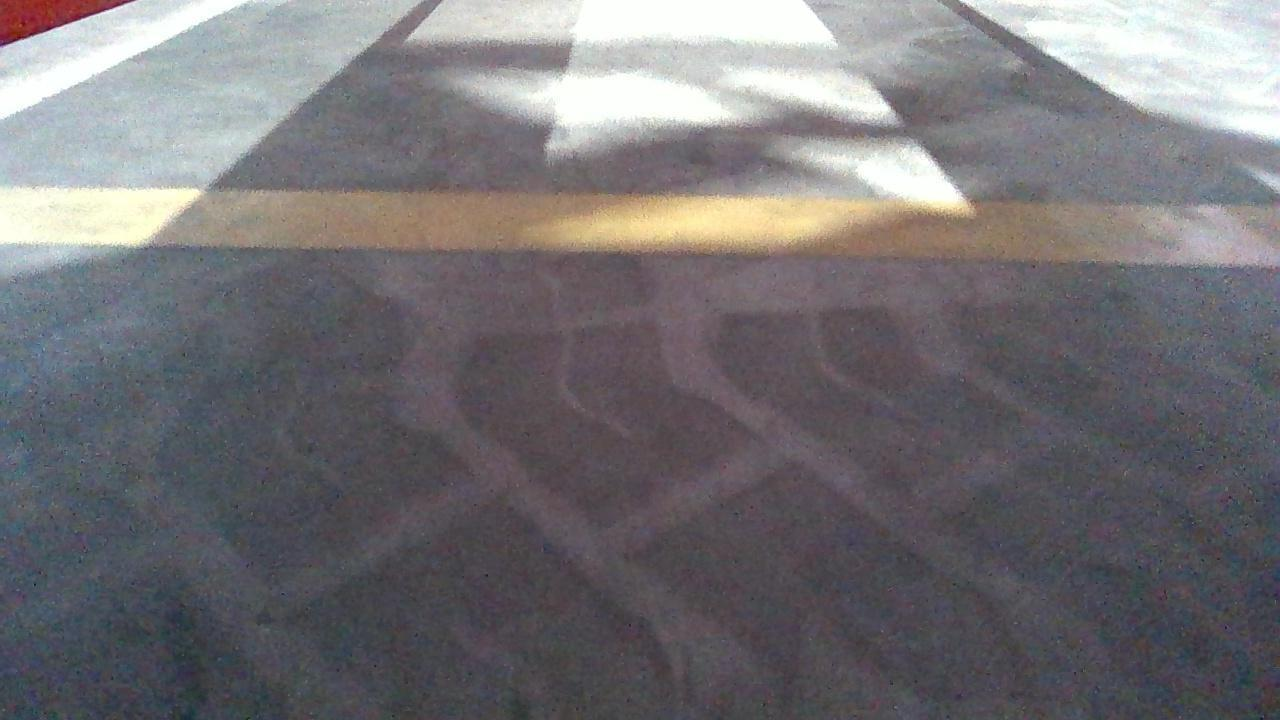yellow_line: (1, 190, 1278, 266)
